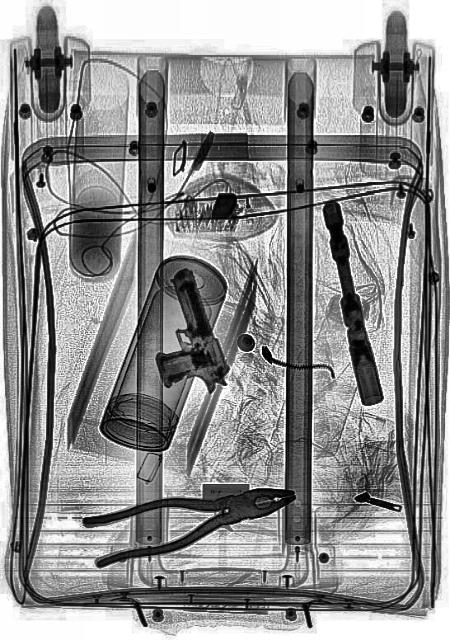Gun: (137, 257, 231, 417)
Pliers: (82, 467, 300, 569)
